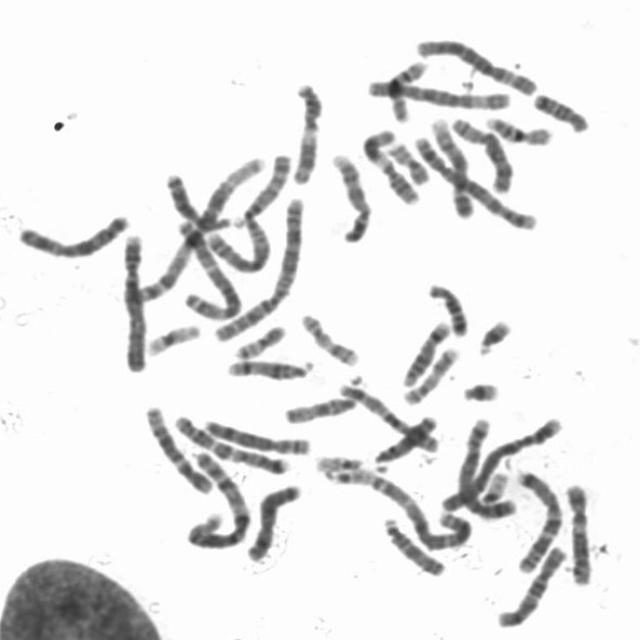A1: (120, 148, 278, 309), (180, 444, 254, 550)
A2: (210, 192, 308, 344), (209, 151, 297, 273)
A3: (368, 473, 476, 553), (169, 212, 245, 322)
B4: (435, 412, 565, 514), (118, 228, 150, 374)
B5: (410, 126, 541, 232), (452, 412, 518, 520)
C10: (332, 377, 440, 453), (492, 540, 571, 630)
C11: (356, 123, 423, 206), (285, 76, 325, 186)
C12: (139, 398, 215, 496), (562, 477, 597, 587)
C6: (411, 32, 540, 98), (362, 74, 514, 111)
C7: (168, 408, 295, 477), (511, 464, 566, 576)
C8: (445, 112, 516, 194), (198, 414, 314, 456)
C9: (424, 113, 478, 219), (327, 148, 375, 245)
D13: (161, 168, 246, 232), (368, 409, 440, 475)
D14: (397, 316, 453, 389), (220, 353, 316, 382)
D15: (377, 512, 448, 579), (280, 373, 364, 425)
E16: (384, 54, 432, 124), (480, 111, 555, 146)
E17: (398, 342, 463, 406), (296, 308, 362, 368)
E18: (528, 88, 591, 134), (423, 278, 471, 338)
F19: (141, 318, 203, 357), (474, 472, 510, 524)
F20: (230, 319, 289, 361), (384, 138, 432, 184)
G21: (472, 313, 514, 357), (455, 376, 503, 404)
G22: (311, 450, 366, 472), (322, 467, 374, 487)
X: (13, 209, 132, 261), (242, 478, 304, 563)
